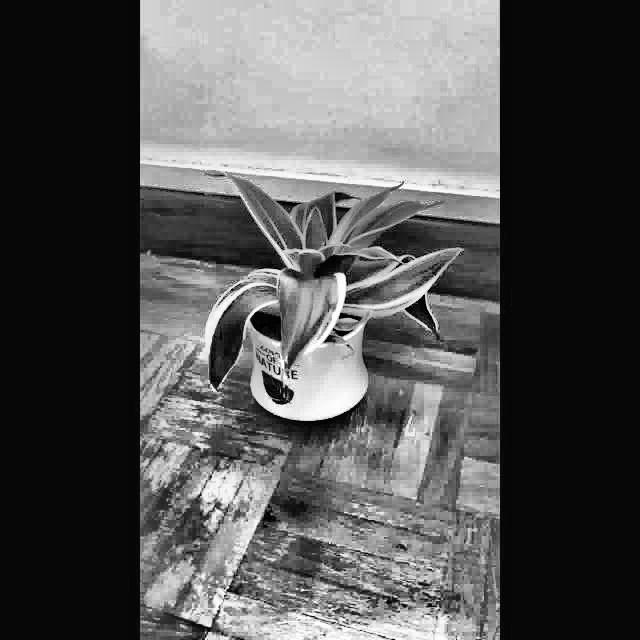plants: (193, 158, 478, 432)
